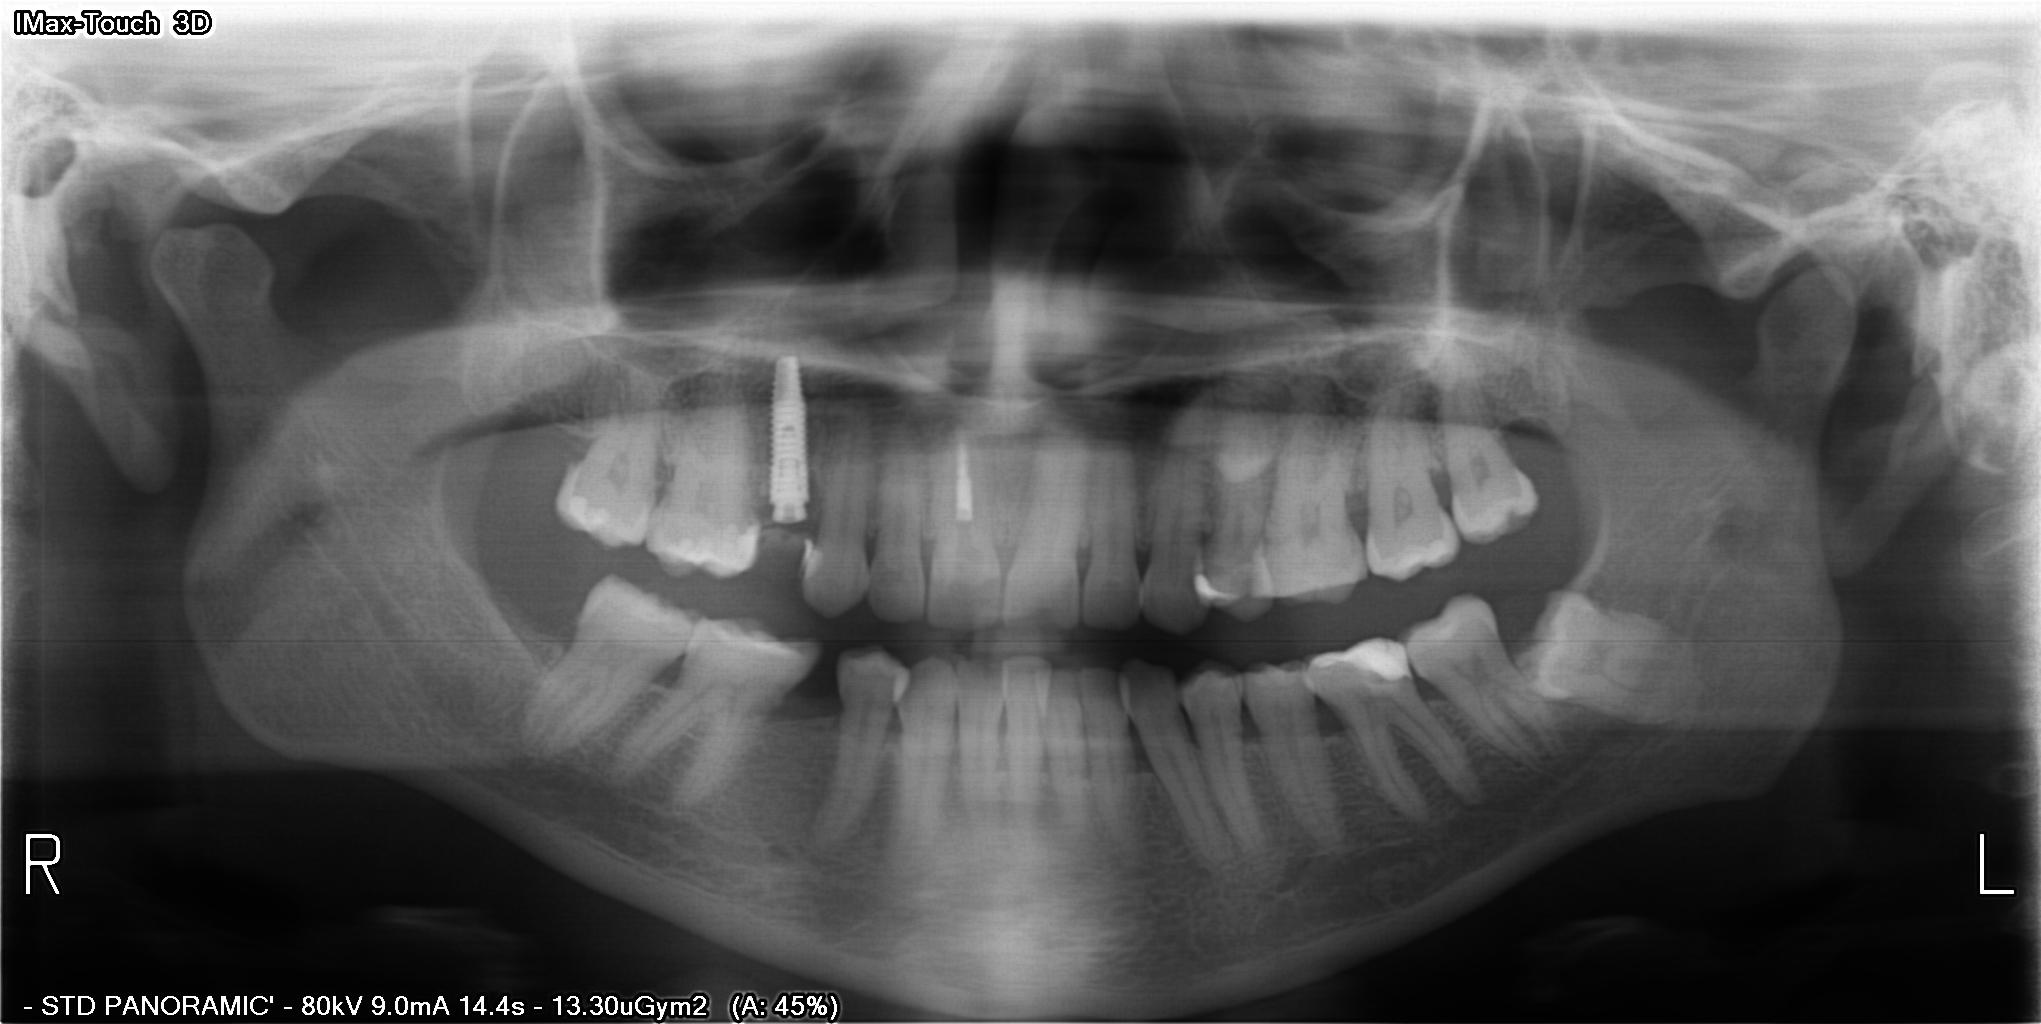Çürük: (1321, 636, 1421, 680), (793, 539, 837, 592)
Çürük Bölgesi: (1379, 658, 1425, 699)
